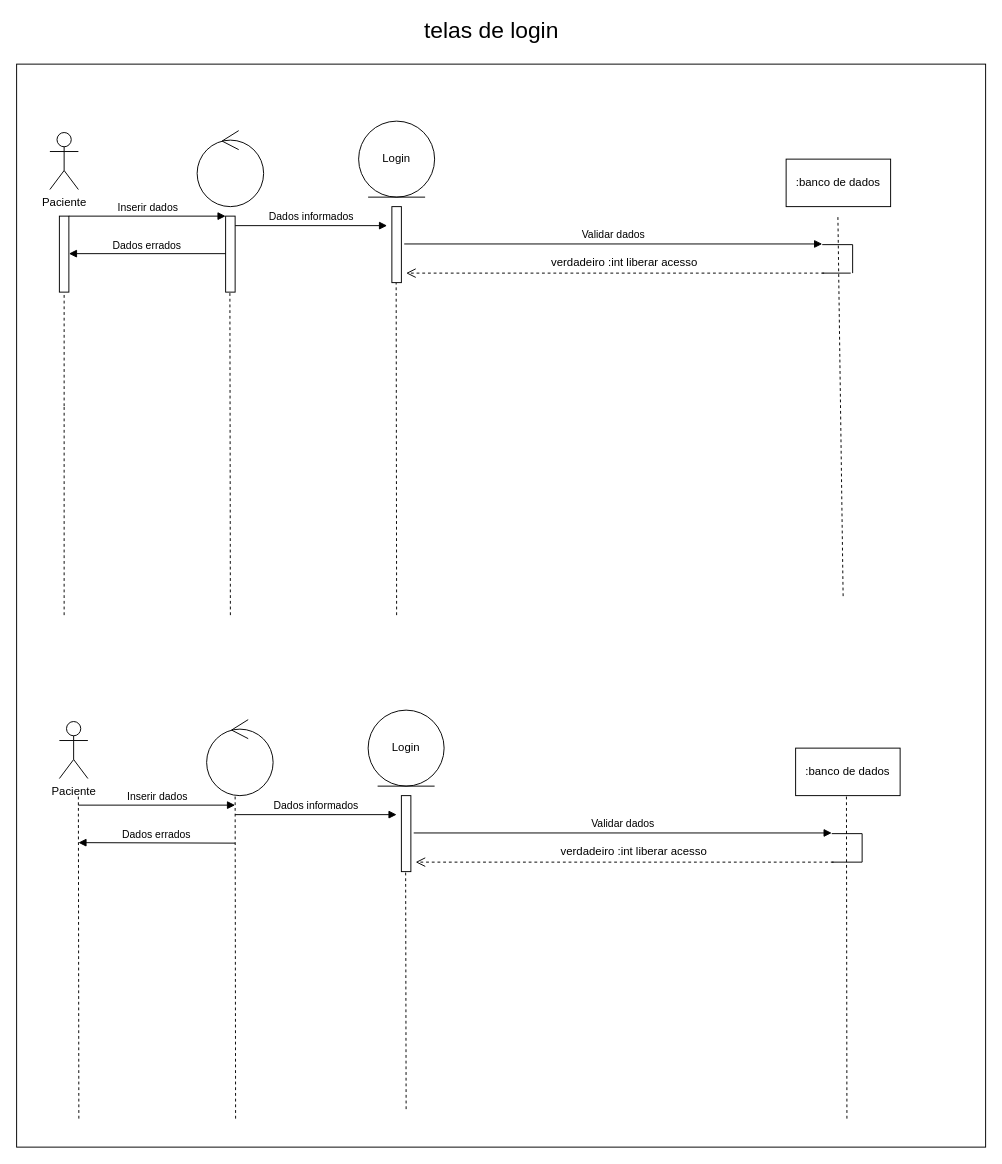
This 1002x1164 diagram has some shape labels left out. Each missing label, with the box of its shape:
Verificar CPF: (196, 130, 264, 207)
Verificar CRP: (206, 719, 273, 796)
